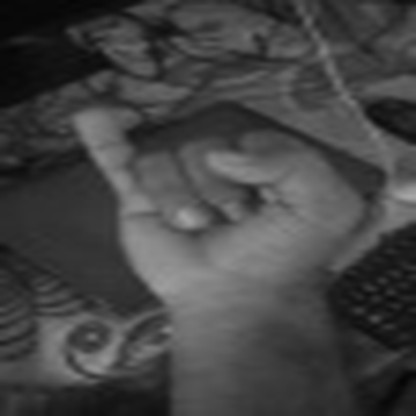i: (28, 88, 391, 312)
